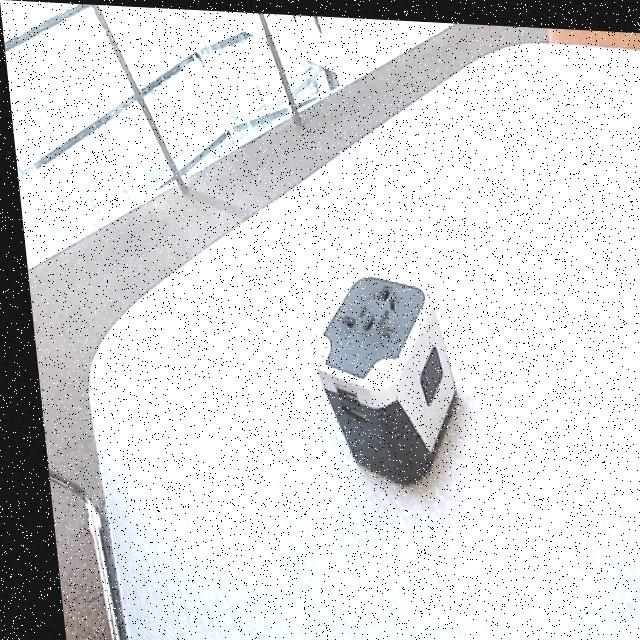adapter: (297, 267, 457, 483)
